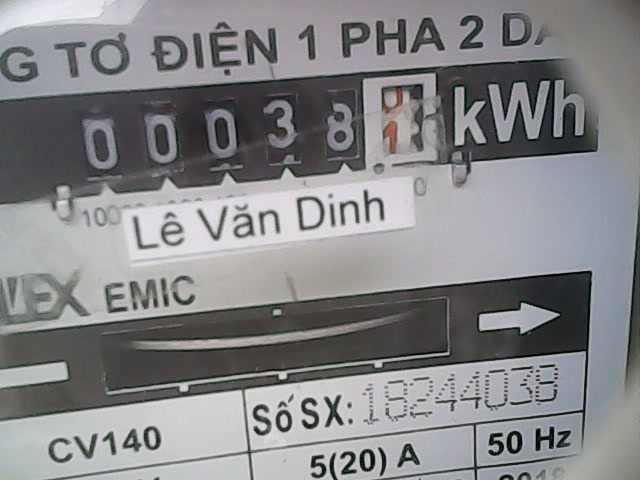phy_plate: (69, 73, 451, 185)
